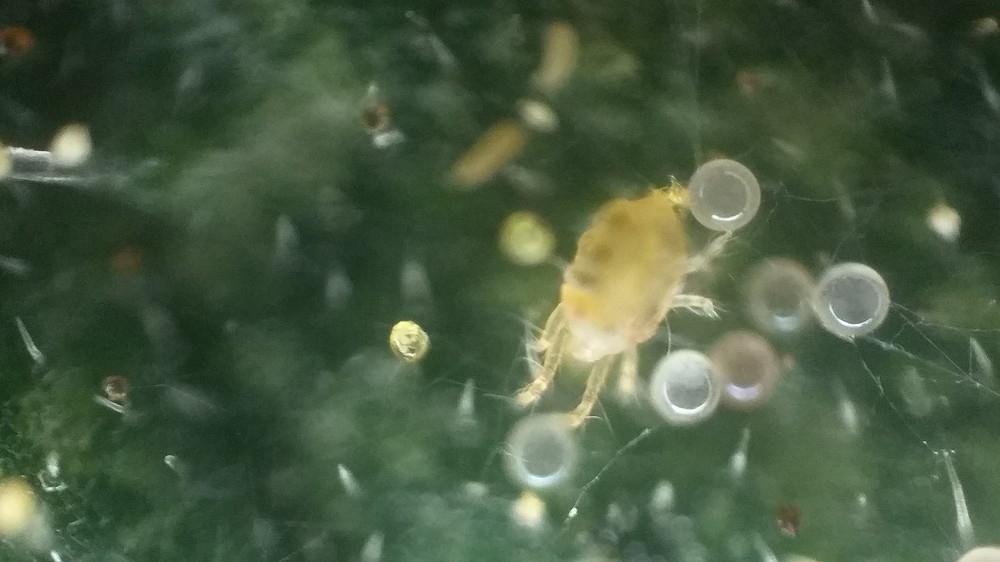Aracnido Rojo: (504, 175, 725, 444)
